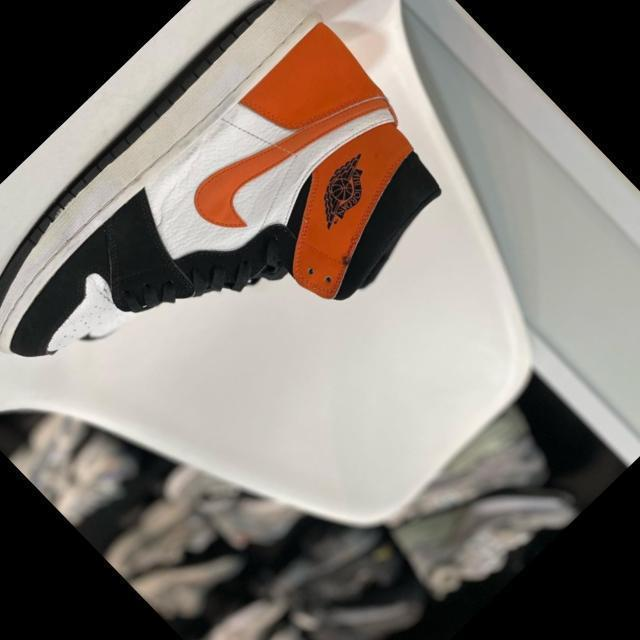nike fake jordan 1: (0, 0, 479, 505)
